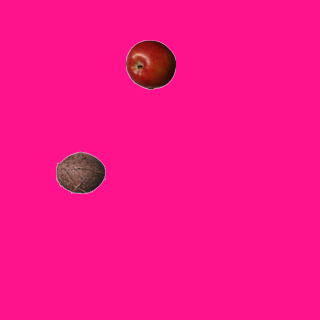Apple Braeburn: (125, 39, 175, 89)
Cocos: (55, 147, 105, 197)
